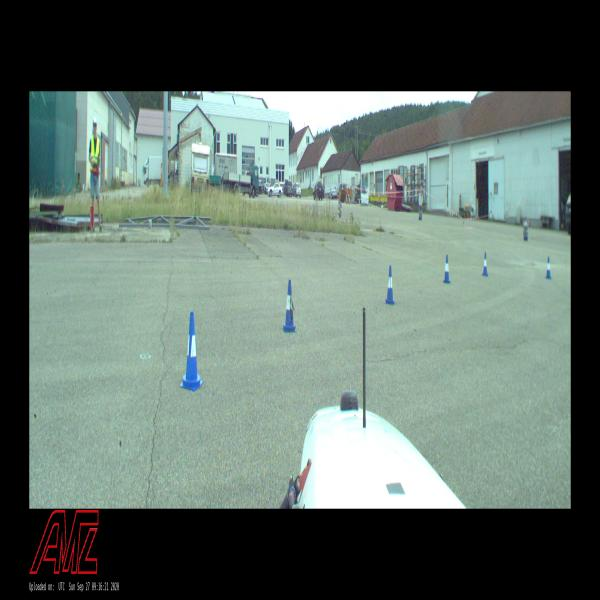blue_cone: (180, 312, 203, 390), (282, 280, 296, 332), (384, 266, 396, 304), (443, 254, 450, 284), (482, 252, 488, 276), (546, 256, 552, 279)
